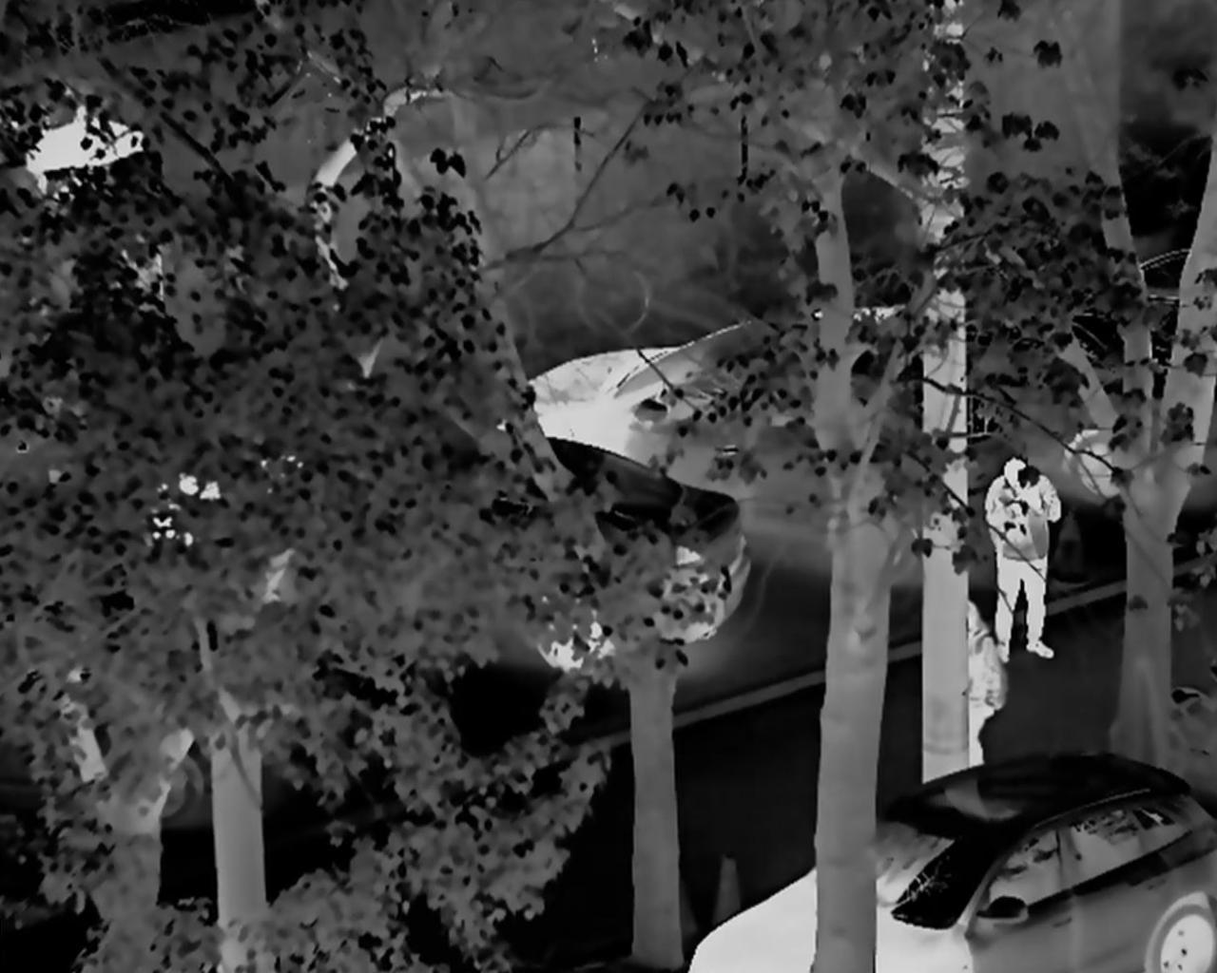person: (984, 457, 1073, 667), (948, 598, 1010, 773)
